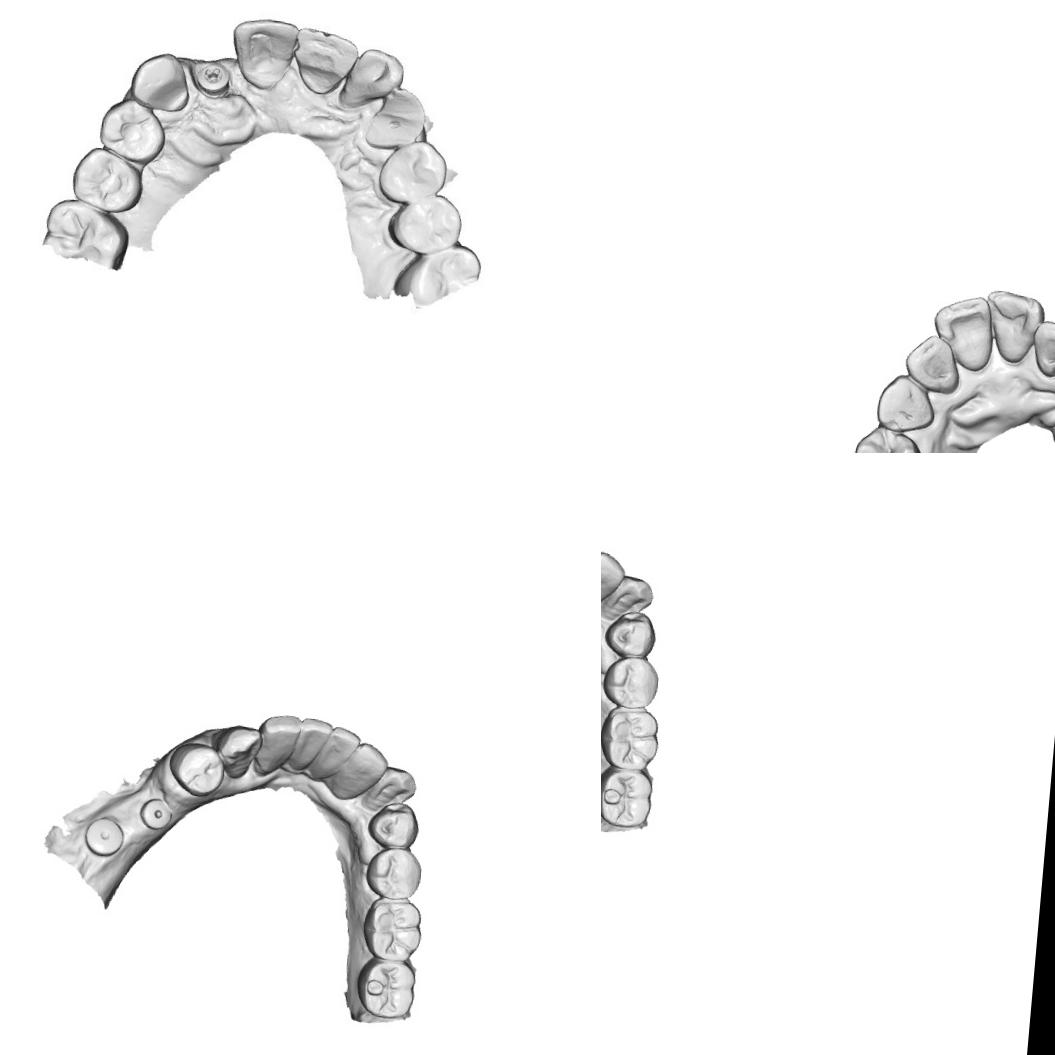canine: (361, 84, 435, 155), (126, 50, 197, 114), (872, 372, 938, 434), (206, 722, 264, 781), (360, 762, 418, 817), (601, 571, 655, 626)
implant: (81, 814, 126, 859), (138, 795, 173, 830)
implant_minus: (191, 60, 229, 96)
incisor: (928, 291, 997, 373), (980, 288, 1046, 367), (235, 17, 299, 88), (900, 332, 964, 396), (294, 28, 359, 90), (252, 710, 302, 780), (342, 50, 396, 112), (284, 714, 334, 774), (338, 738, 390, 795), (315, 723, 362, 774), (1029, 319, 1055, 380), (601, 547, 627, 603)
molar: (357, 894, 425, 962), (352, 955, 418, 1020), (601, 703, 662, 771), (601, 764, 654, 829)
premolar: (373, 134, 451, 208), (384, 184, 464, 256), (71, 146, 148, 218), (96, 96, 166, 167), (164, 739, 226, 799), (362, 844, 424, 901), (601, 653, 661, 710), (364, 799, 421, 850), (601, 608, 658, 659), (851, 422, 924, 453)
